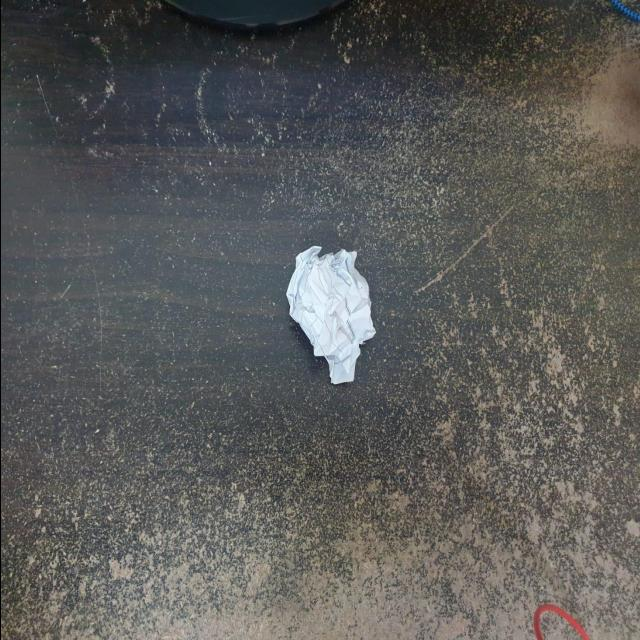kertas: (284, 234, 376, 380)
